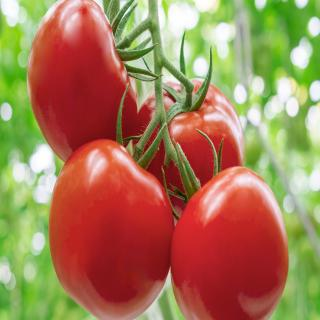Tomat: (45, 135, 179, 320), (170, 164, 292, 320), (28, 1, 140, 164)
